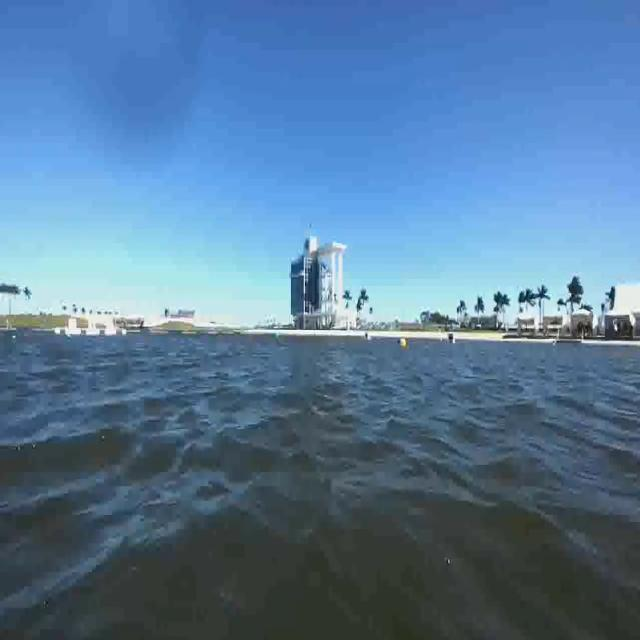yellow-buoy: (400, 338, 407, 350)
